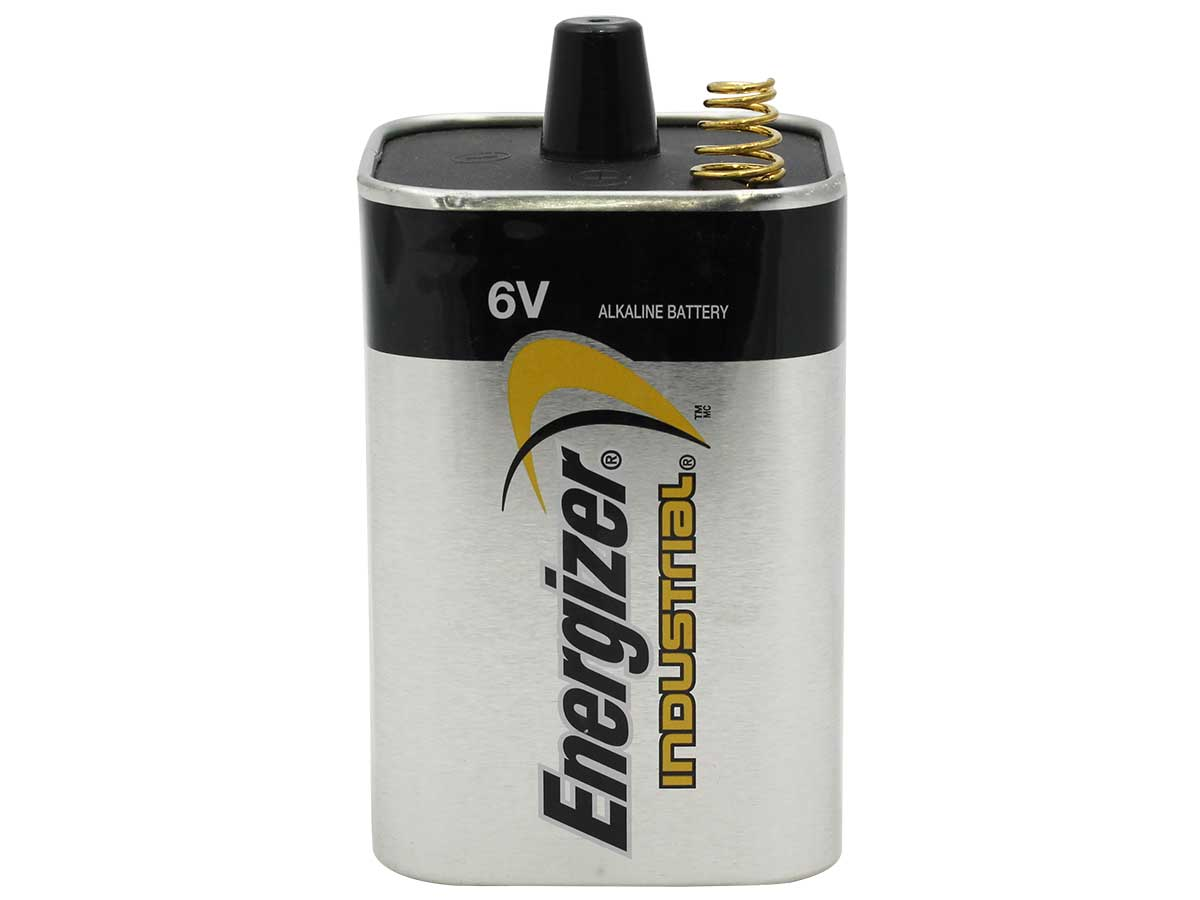6V: (330, 15, 869, 895)
